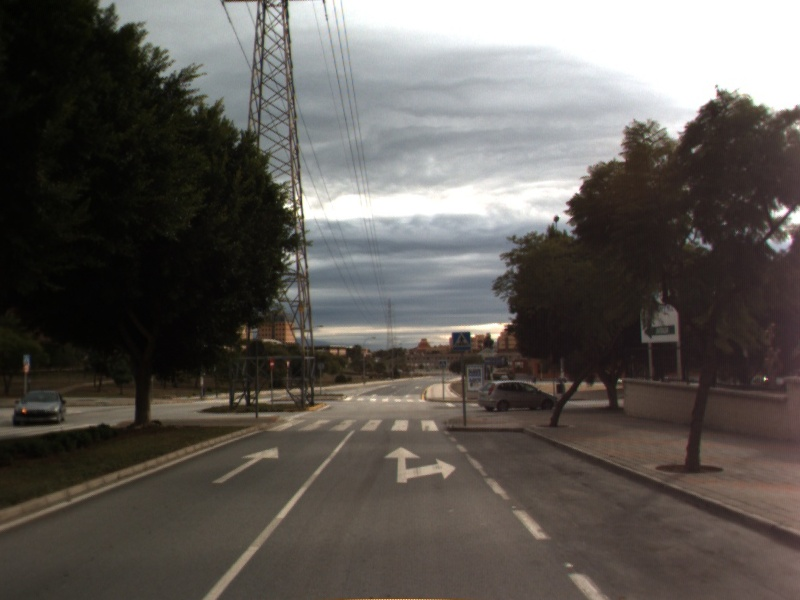STRAIGHT: (210, 444, 280, 485)
STRAIGHT_RIGHT: (382, 444, 459, 485)
